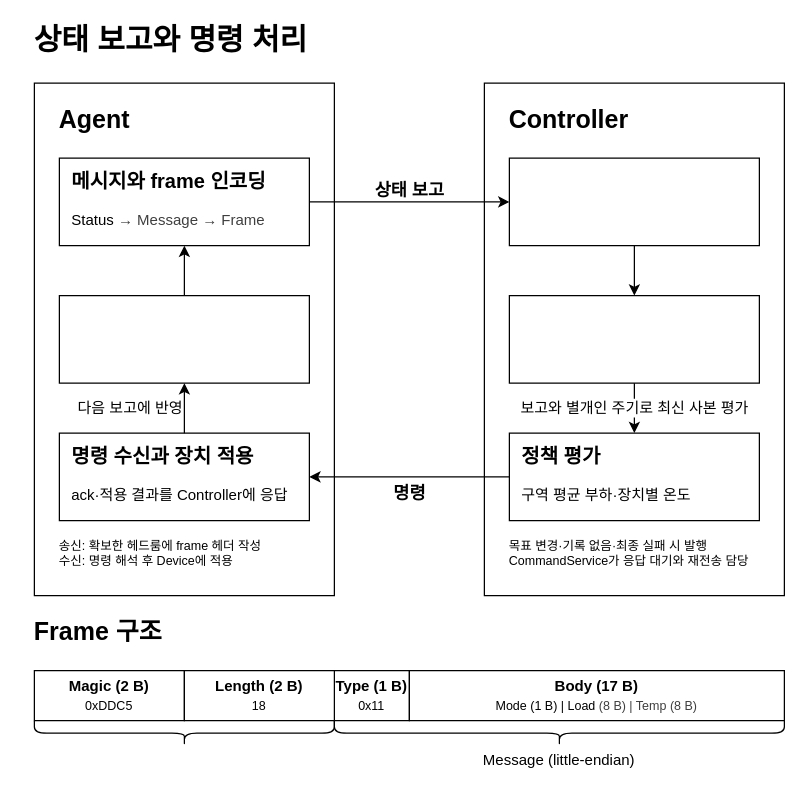
This 806x790 diagram has some shape labels left out. Here are the shapes that lost their labels. From the top down, the centre of each, then its label:
(633,201): 수신 버퍼에서 frame 추출 완전한 frame만 메시지 해석으로 전달
(183,338): Device 상태 조회 동작 모드·부하율 ·온도
(633,338): 상태 검증과 사본 갱신 StatusService → DeviceShadow
(183,732): Frame 헤더 (big-endian)
